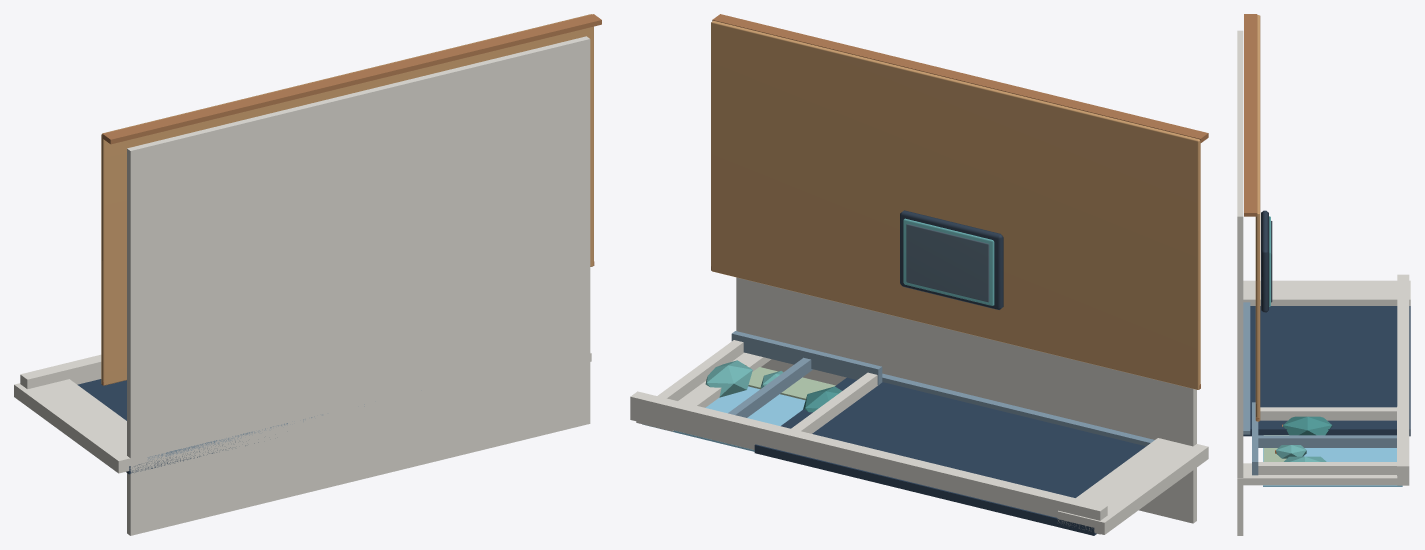
File: showcase_workbench_v01.glb
The picture shows the model from 3 angles, left to right: view 1: azimuth 30°, elevation 25°; view 2: azimuth 150°, elevation 25°; view 3: azimuth 270°, elevation 25°; orthographic projection. The views are drawn at different scales.
Visible parts, largest first — view 1: room_shell; view 2: room_shell, preview_plinth; view 3: room_shell, preview_plinth.
Boxes of the visible parts, bbox=[...] form: room_shell: bbox=[14, 14, 601, 535]; room_shell: bbox=[630, 14, 1208, 535]; preview_plinth: bbox=[900, 210, 1003, 309]; room_shell: bbox=[1237, 14, 1410, 535]; preview_plinth: bbox=[1261, 210, 1272, 312].
Size of the model in its own units: 18.7 by 14.45 by 6.9.
Materials: 1 (1 with a texture image).
